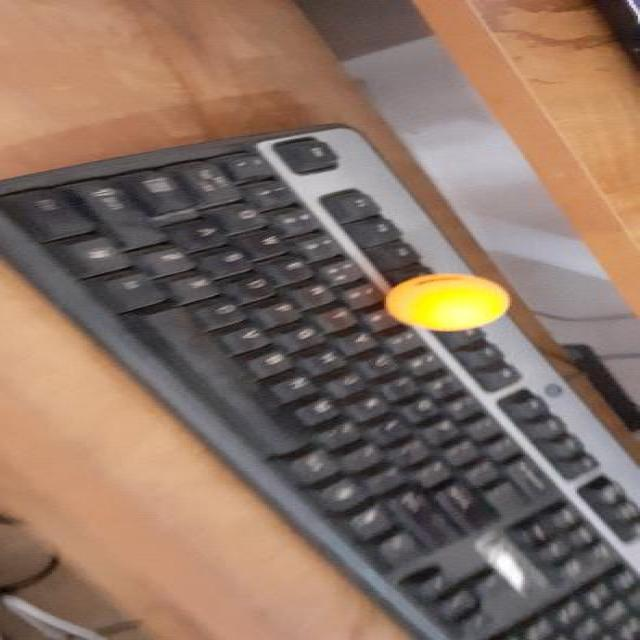oball: (388, 274, 512, 332)
